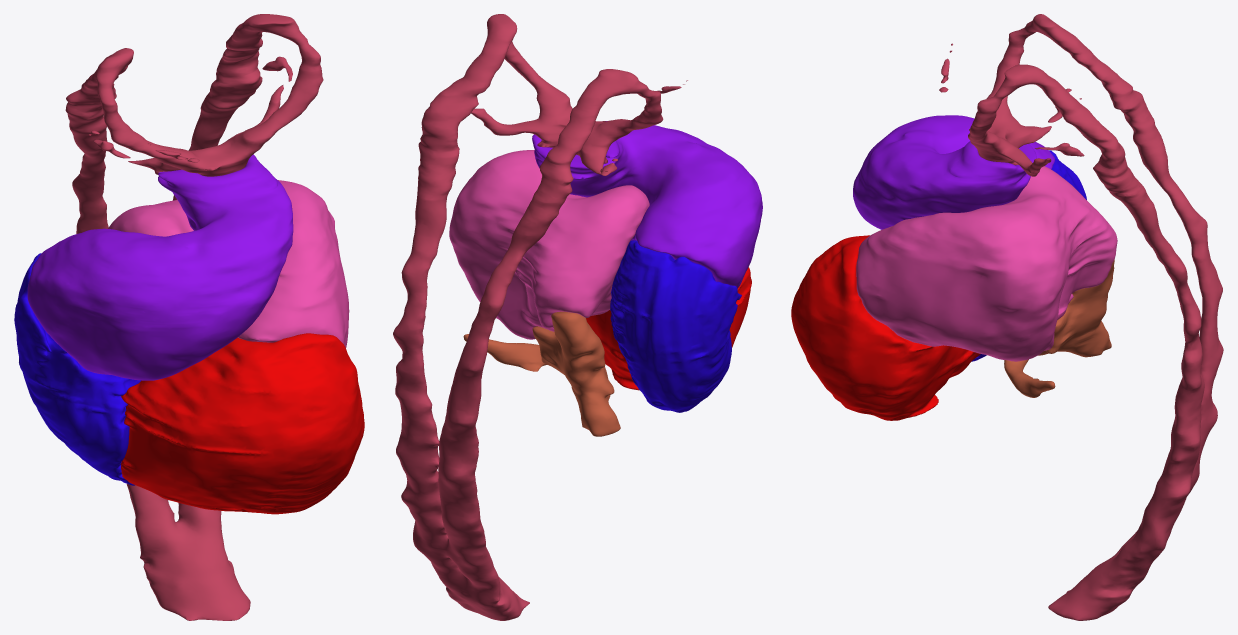
The picture shows the model from 3 angles, left to right: view 1: azimuth 30°, elevation 25°; view 2: azimuth 150°, elevation 25°; view 3: azimuth 270°, elevation 25°; orthographic projection. The views are drawn at different scales.
Parts seen in each view (by area): view 1: N662_outflow_tract, N662_left_ventricle, N662_aorta, N662_atria, N662_right_ventricle; view 2: N662_aorta, N662_atria, N662_outflow_tract, N662_right_ventricle, N662_veins, N662_left_ventricle; view 3: N662_atria, N662_aorta, N662_left_ventricle, N662_outflow_tract, N662_veins.
Boxes of the visible parts, x1=… form: N662_outflow_tract: x1=27, y1=154, x2=293, y2=380; N662_left_ventricle: x1=121, y1=333, x2=364, y2=514; N662_aorta: x1=65, y1=14, x2=323, y2=620; N662_atria: x1=108, y1=180, x2=349, y2=347; N662_right_ventricle: x1=14, y1=253, x2=141, y2=485; N662_aorta: x1=393, y1=14, x2=687, y2=620; N662_atria: x1=449, y1=150, x2=649, y2=339; N662_outflow_tract: x1=532, y1=121, x2=762, y2=288; N662_right_ventricle: x1=610, y1=240, x2=741, y2=412; N662_veins: x1=463, y1=311, x2=620, y2=436; N662_left_ventricle: x1=586, y1=267, x2=751, y2=390; N662_atria: x1=856, y1=166, x2=1117, y2=361; N662_aorta: x1=939, y1=14, x2=1223, y2=620; N662_left_ventricle: x1=791, y1=235, x2=980, y2=420; N662_outflow_tract: x1=853, y1=115, x2=1054, y2=229; N662_veins: x1=1004, y1=259, x2=1114, y2=397.
Size of the model in its own units: 512 by 999 by 713.
